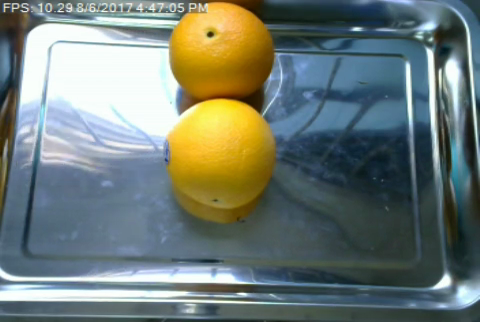Orange: (164, 98, 277, 210), (168, 2, 276, 99)
